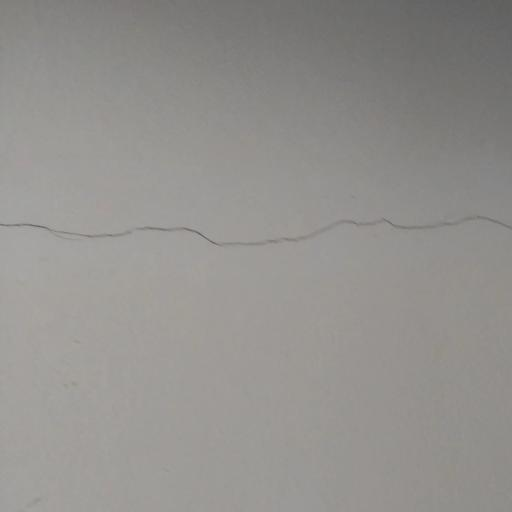minor_crack: (0, 190, 512, 257)
